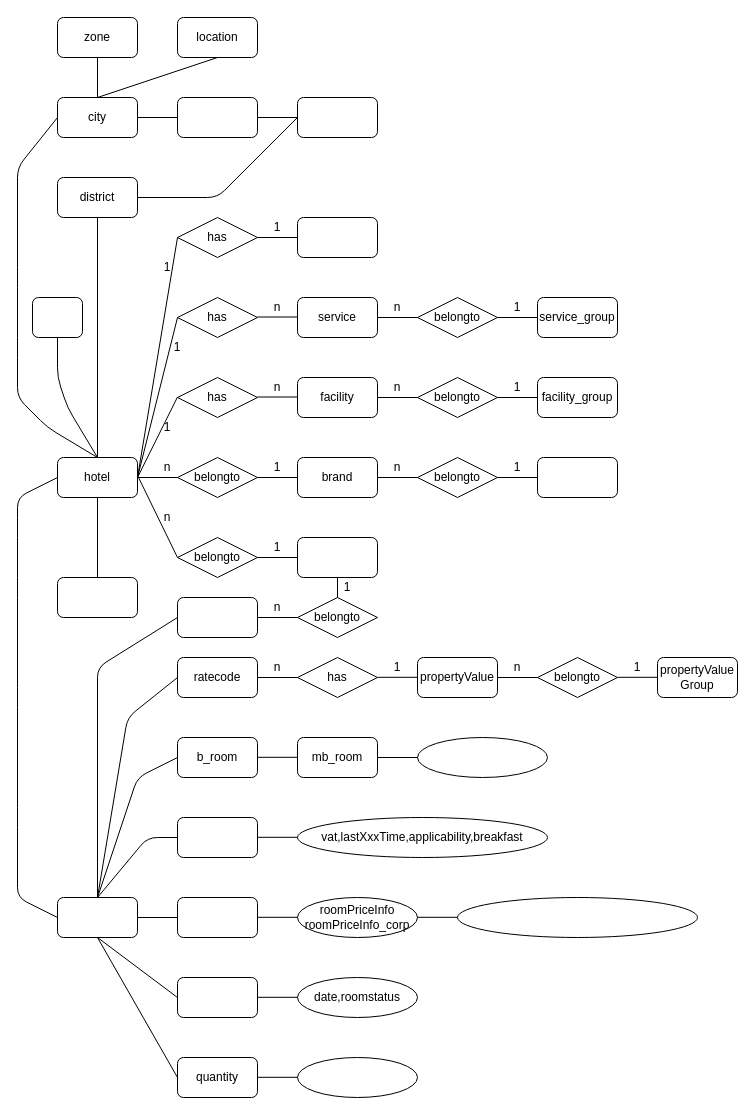
Some shapes in this 755 by 1115 pixel diagram are drawn without their labels. The shapes that lost their labels are listed below. From the top down, each one's centre as x and y in pixels, then its label:
pixel 217 117: province
pixel 337 117: country
pixel 337 237: score
pixel 57 317: lat_lng
pixel 577 477: brand_group
pixel 337 557: vendor
pixel 97 597: premium_hotel
pixel 217 617: vendor ratecode
pixel 482 757: bedtype,wintype,floor area,wifi,children...
pixel 217 837: policy
pixel 97 917: room
pixel 217 917: price
pixel 577 917: fgcost,fgprice,ppcost,ppprice breakfast1_price,breakfast2_price
pixel 217 997: status
pixel 357 1077: date,quantity
